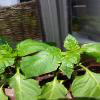Bell_pepper leaf: (19, 46, 61, 78), (7, 73, 40, 99), (15, 37, 54, 55), (75, 72, 100, 99), (39, 77, 67, 99), (59, 53, 81, 79), (60, 33, 82, 51), (80, 43, 99, 61)
